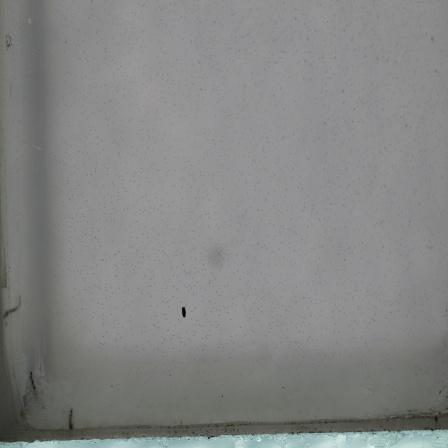Jentik-Nyamuk: (64, 407, 77, 431), (177, 303, 191, 323)
